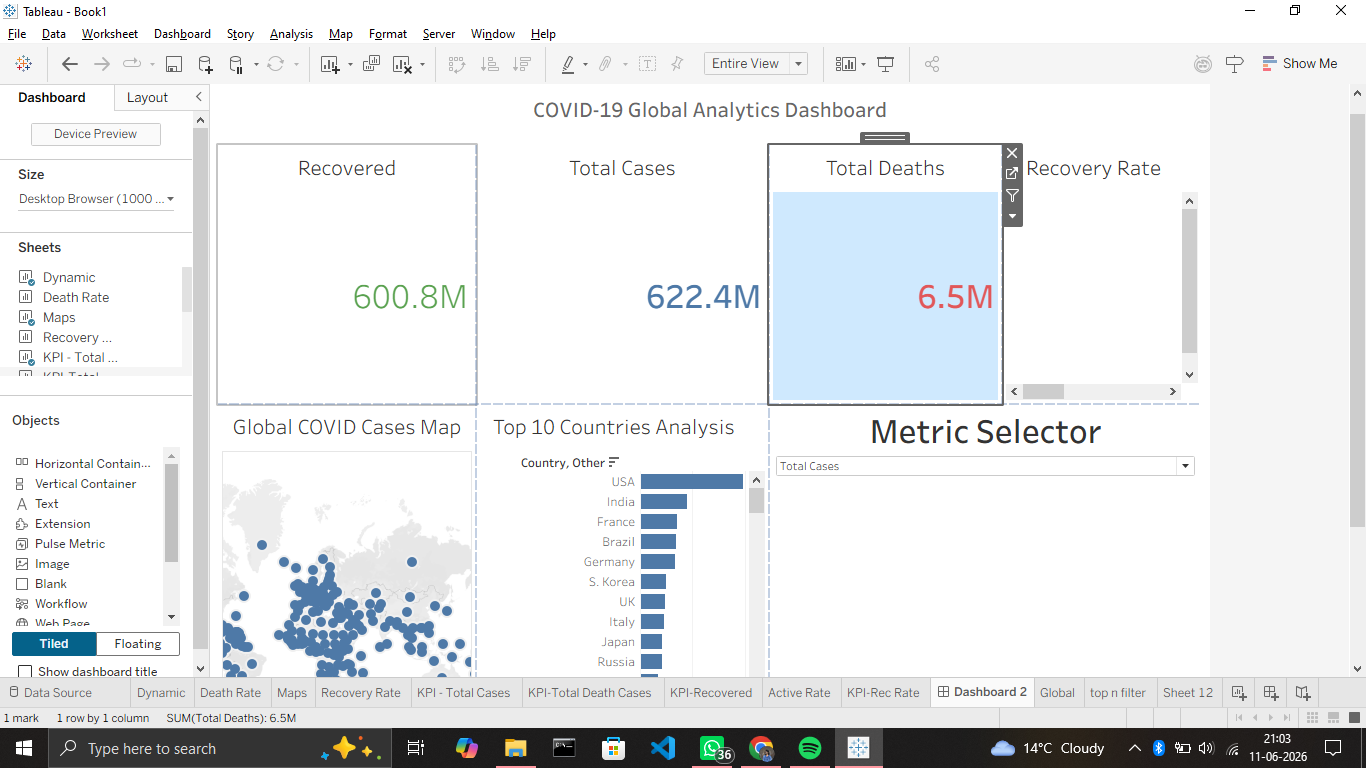

The dashboard page shown, as its layout file describes it:
{"tool":"tableau","page":{"name":"Dashboard 2","canvas":[1000,800],"ordinal":0},"visuals":[{"type":"text","box":[8,8,984,72]},{"type":"worksheet","title":"KPI-Recovered","mark":"Automatic","box":[8,80,258,258.8]},{"type":"worksheet","title":"KPI - Total Cases","mark":"Text","box":[266,80,293,259]},{"type":"worksheet","title":"KPI-Total Death Cases","mark":"Automatic","box":[559,80,233,259]},{"type":"worksheet","title":"KPI-Rec Rate","mark":"Automatic","box":[792,80,200,259]},{"type":"worksheet","title":"Maps","mark":"Automatic","box":[8,338.8,258,453.2]},{"type":"worksheet","title":"Dynamic","mark":"Automatic","rows":["Country, Other"],"cols":["Calculation_0452734906560512"],"box":[266,339,293,453]},{"type":"parameter","param":"[Parameters].[Parameter 1]","box":[559,339,433,453]}]}

Visuals, with their boxes on the page's 1000x800 design canvas (x1, y1, x2, y2). These are canvas units, not pixel positions in the 1366x768 screenshot, which may show the page scaled, cropped or inside an application window:
text: (8, 8, 992, 80)
"KPI-Recovered" worksheet: (8, 80, 266, 339)
"KPI - Total Cases" worksheet (Text marks): (266, 80, 559, 339)
"KPI-Total Death Cases" worksheet: (559, 80, 792, 339)
"KPI-Rec Rate" worksheet: (792, 80, 992, 339)
"Maps" worksheet: (8, 339, 266, 792)
"Dynamic" worksheet: (266, 339, 559, 792)
parameter: (559, 339, 992, 792)
